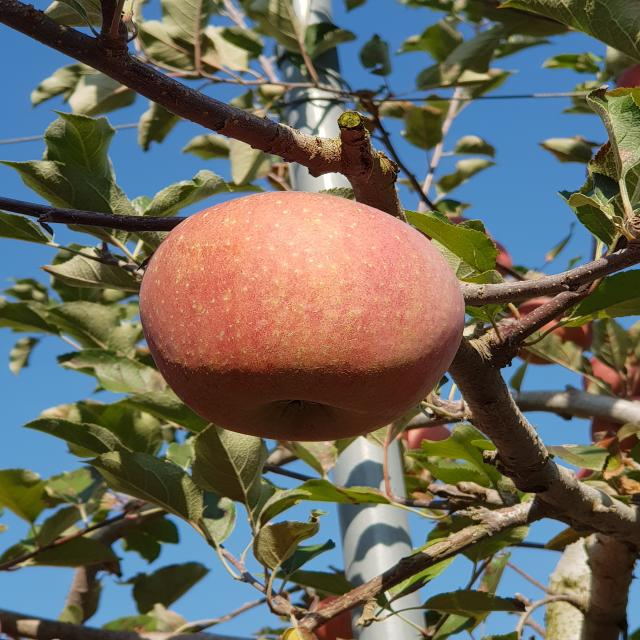fresh: (129, 184, 476, 453)
